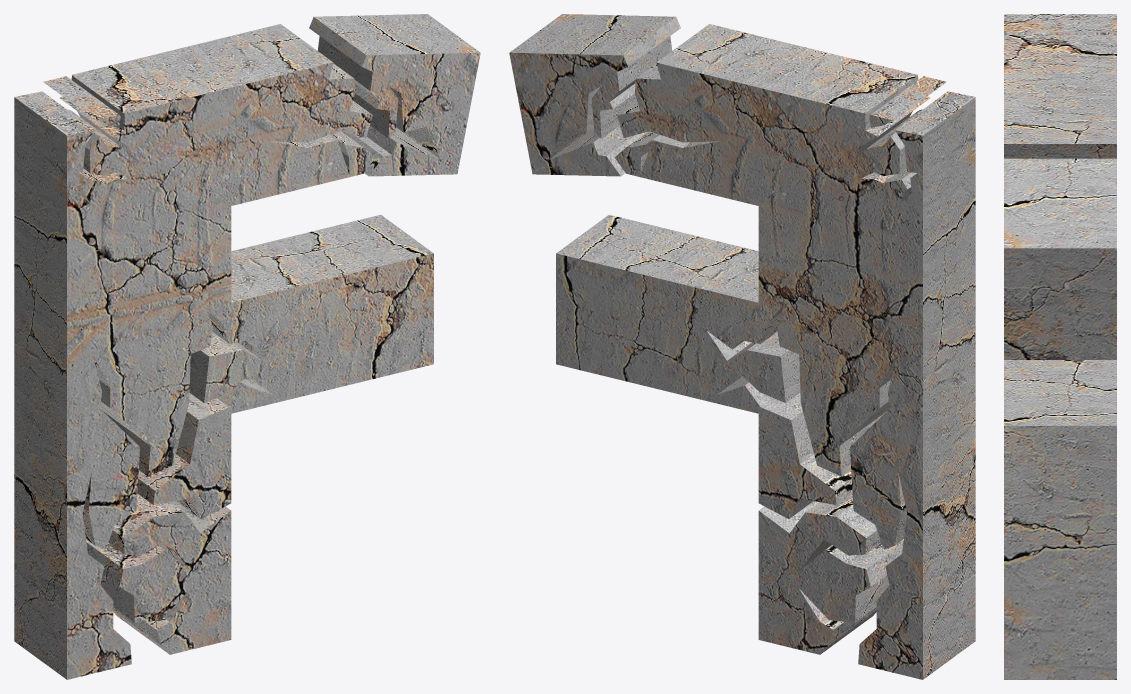
3 views of the same model, side by side, from view 1: azimuth 30°, elevation 25°; view 2: azimuth 150°, elevation 25°; view 3: azimuth 270°, elevation 25° (orthographic). The views are drawn at different scales.
Parts seen in each view (by area): view 1: F; view 2: F; view 3: F.
Part boxes in pixels (bbox=[...]): F: bbox=[14, 14, 480, 679]; F: bbox=[509, 14, 975, 679]; F: bbox=[1004, 14, 1116, 679].
Bounding box in the file's own units: 67.68 × 86.36 × 15.
Materials: 1 (1 with a texture image).
